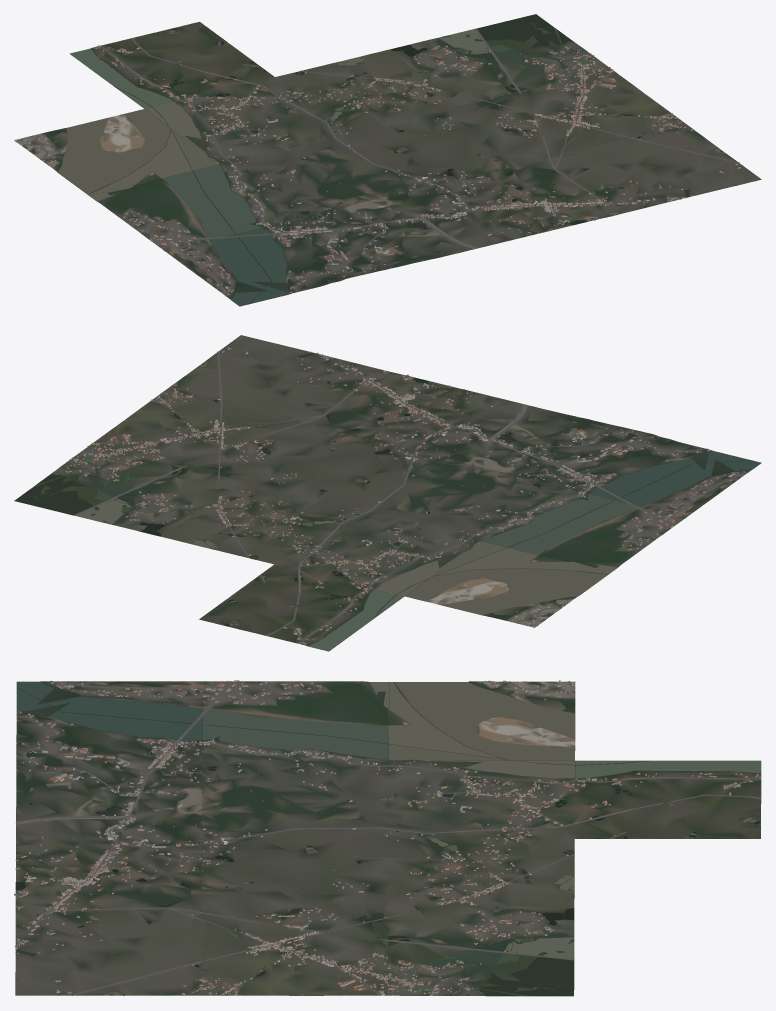
3 renders of one model, top to bottom at view 1: azimuth 30°, elevation 25°; view 2: azimuth 150°, elevation 25°; view 3: azimuth 270°, elevation 25°, orthographic. The views are drawn at different scales.
Parts seen in each view (by area): view 1: ground, water, buildings, roads; view 2: ground, water, buildings, roads; view 3: ground, water, buildings, roads.
Part boxes in pixels (<box>): ground: <box>14,14,761,306</box>; water: <box>58,14,726,306</box>; buildings: <box>18,45,741,294</box>; roads: <box>15,28,739,296</box>; ground: <box>14,335,756,650</box>; water: <box>14,353,761,651</box>; buildings: <box>65,347,744,644</box>; roads: <box>72,351,748,643</box>; ground: <box>15,681,761,996</box>; water: <box>16,681,761,996</box>; buildings: <box>14,680,760,995</box>; roads: <box>14,681,761,995</box>.
Size of the model in its own units: 5613 by 31.27 by 5630.
